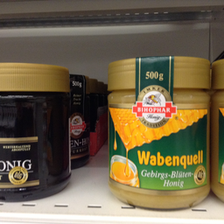honey: (103, 54, 213, 211), (1, 60, 73, 202)
